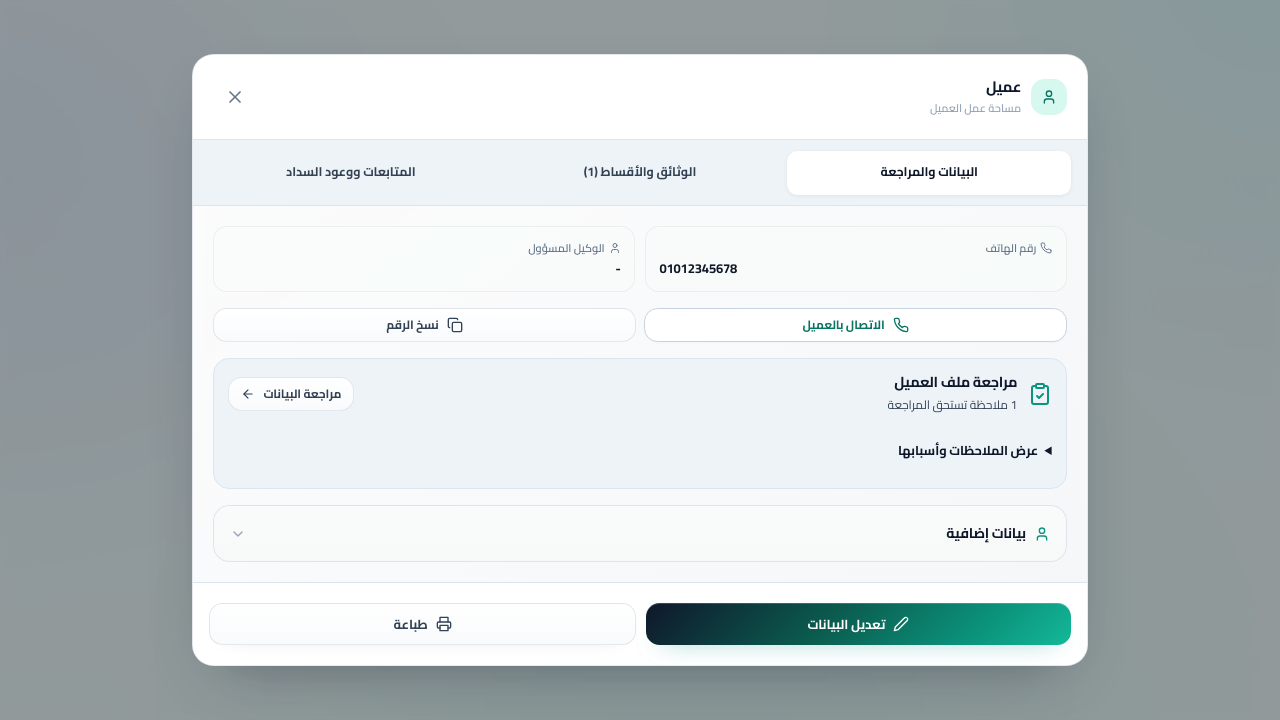
organizes customer information separately from policy rendering
Expected: the text "100001" is not shown
What coordinates should you click on to do the following:
click the button "الوثائق والأقساط (1)"
I would click on:
 (640, 173)
Its box is x1=498 y1=151 x2=782 y2=195.
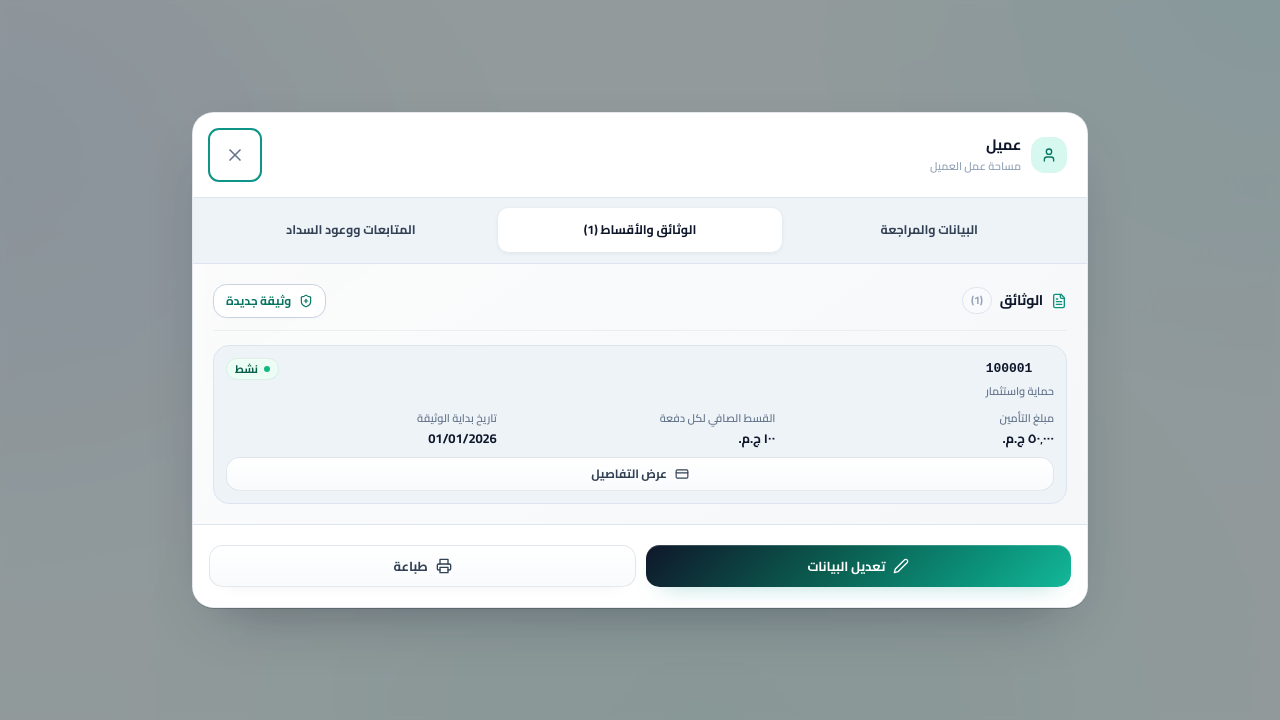
Now the text "100001" is shown, box x1=986 y1=361 x2=1032 y2=376
Now the button "وثيقة جديدة" is shown, box x1=213 y1=284 x2=326 y2=318
